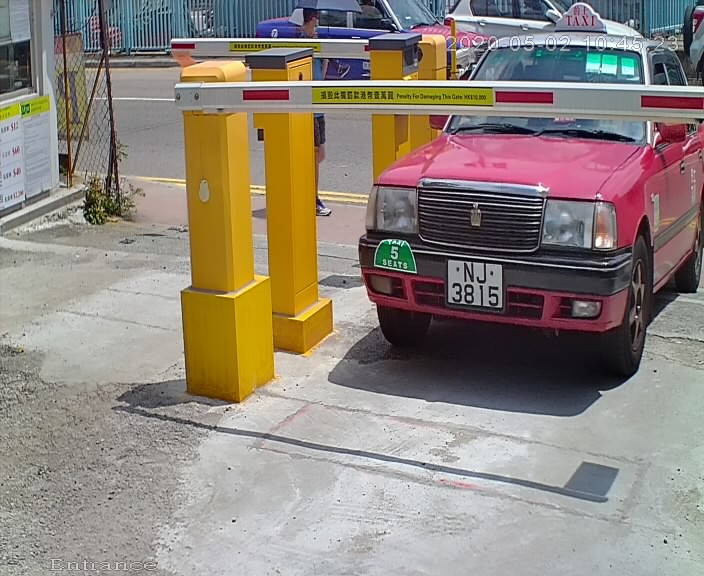taxi: (357, 16, 704, 389)
taxi_mark: (358, 229, 431, 290)
